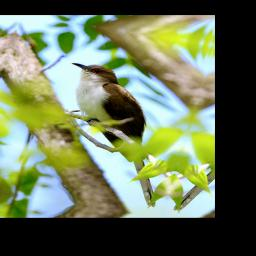Cuckoo: (32, 60, 197, 209)
